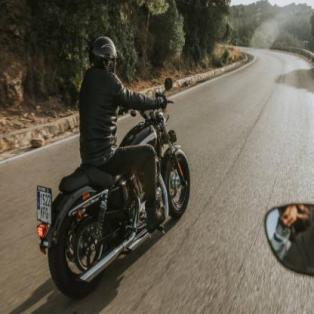Motocicleta: (36, 92, 197, 294)
